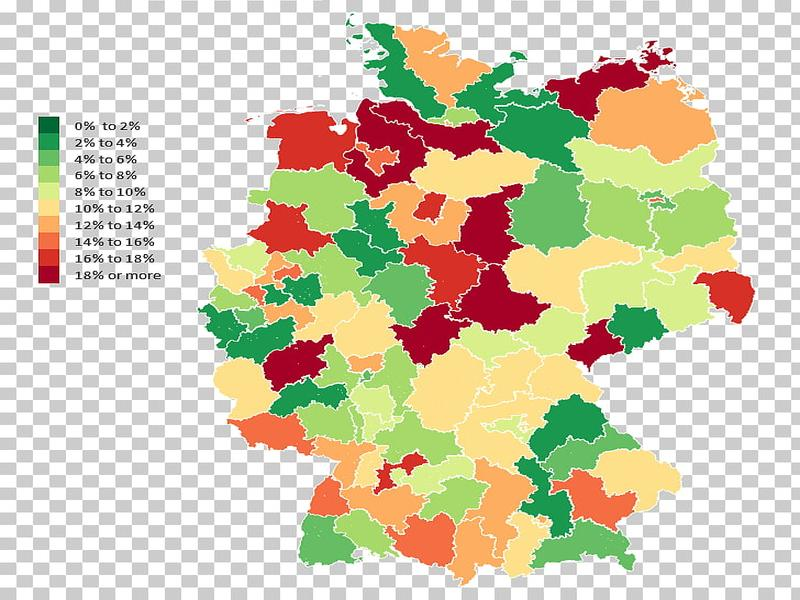legend: (36, 114, 162, 285)
